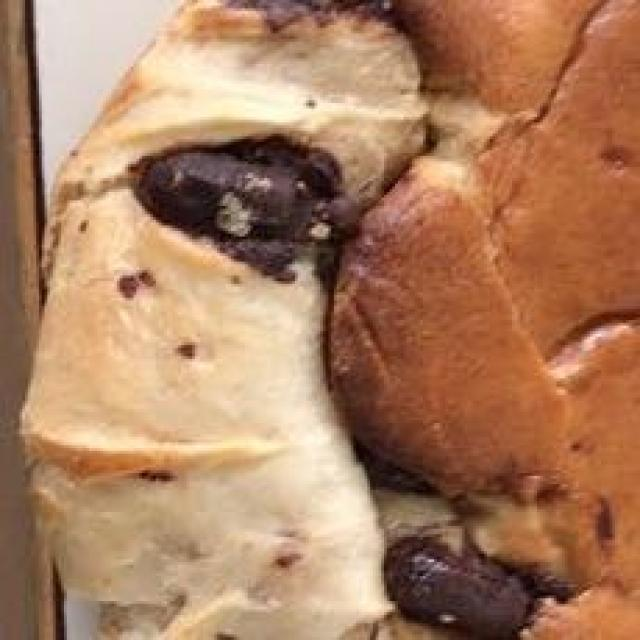roll-with-pieces-of-chocolate: (38, 10, 633, 630)
